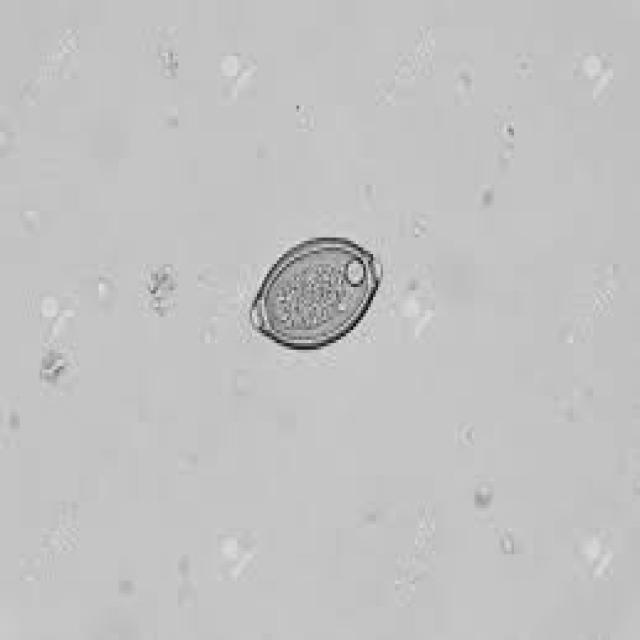Trichuris Trichiura: (244, 229, 386, 355)
